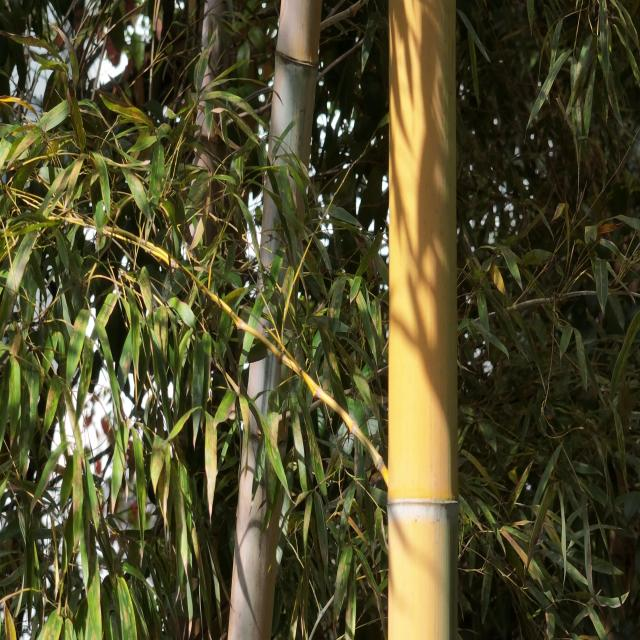Bamboo-shoots: (390, 0, 458, 640)
